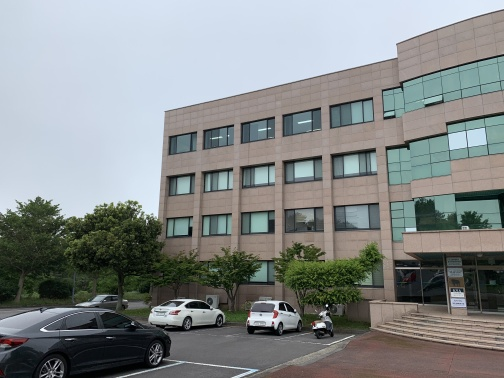Joint Experimental Labs: (164, 32, 504, 330)
